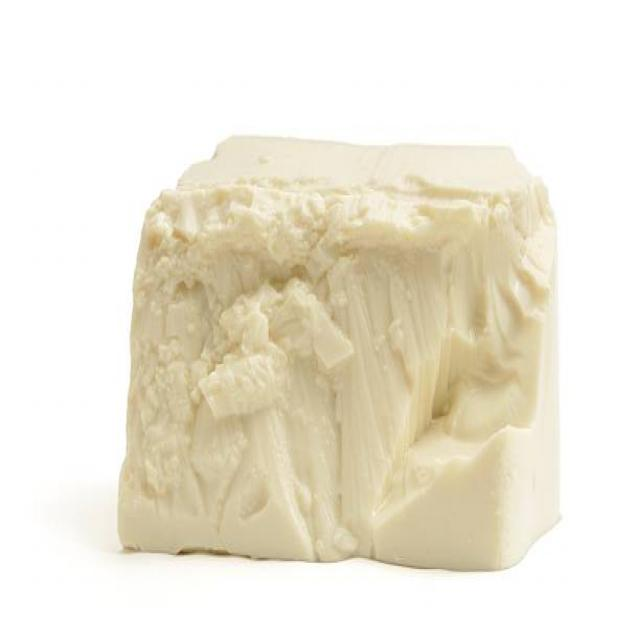Tofu Block: (113, 119, 569, 576)
